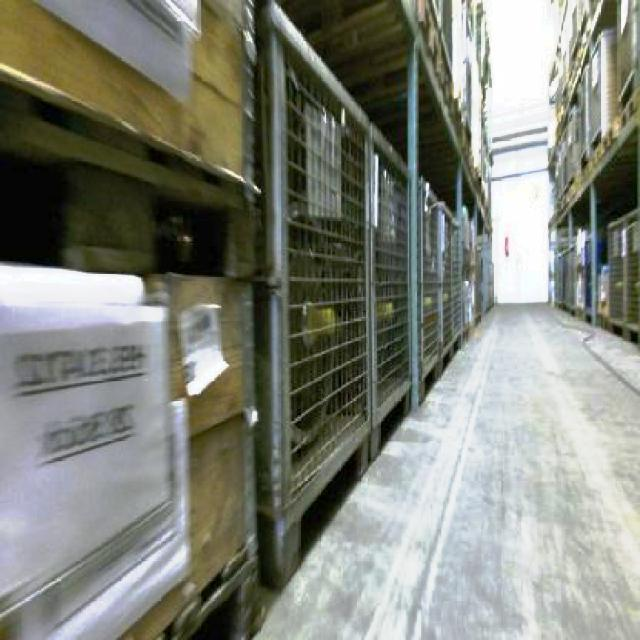ground: (231, 300, 638, 638)
pallet: (0, 54, 262, 638), (251, 0, 492, 589), (545, 0, 638, 349)
